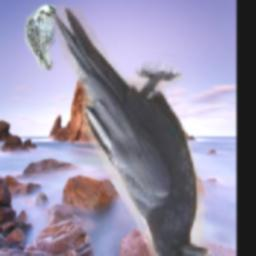Crow: (53, 3, 211, 256)
Woodpecker: (24, 6, 55, 71)
